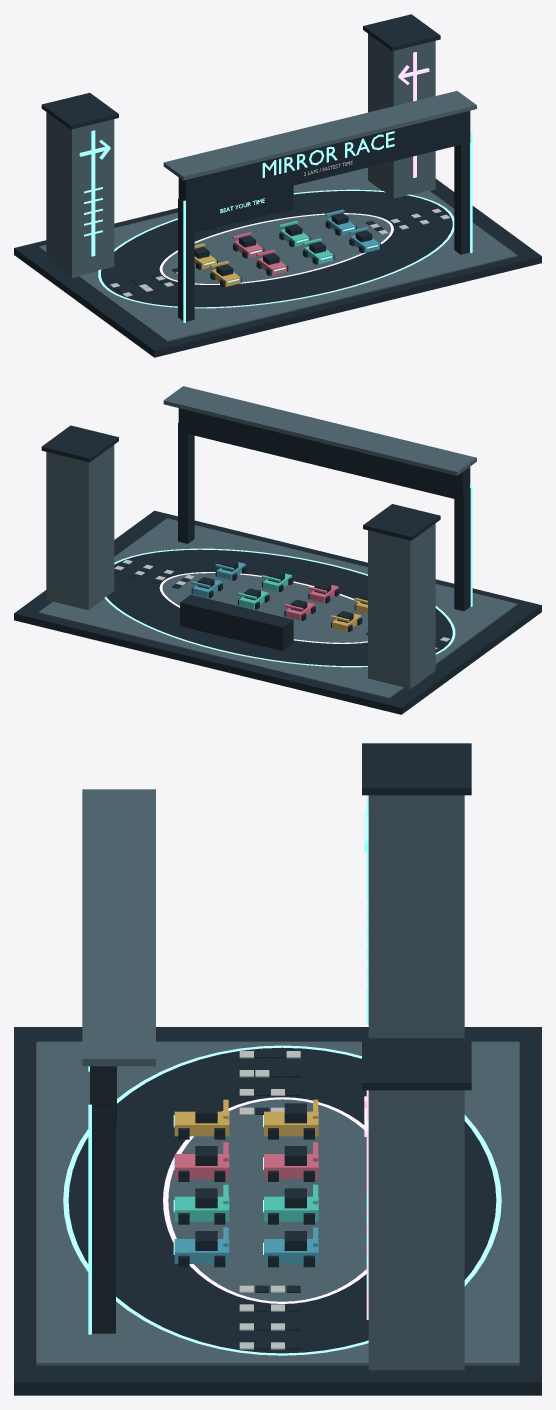
The model's file is mirror-race.glb.
3 renders of one model, top to bottom at view 1: azimuth 30°, elevation 25°; view 2: azimuth 150°, elevation 25°; view 3: azimuth 270°, elevation 25°, orthographic. The views are drawn at different scales.
Visible parts, largest first — view 1: Mirror Race / LOD0; view 2: Mirror Race / LOD0; view 3: Mirror Race / LOD0.
Boxes of the visible parts, <box> form: Mirror Race / LOD0: <box>14,14,541,357</box>; Mirror Race / LOD0: <box>14,386,541,714</box>; Mirror Race / LOD0: <box>14,743,541,1395</box>.
Size of the model in its own units: 18.8 by 7.51 by 11.8.
